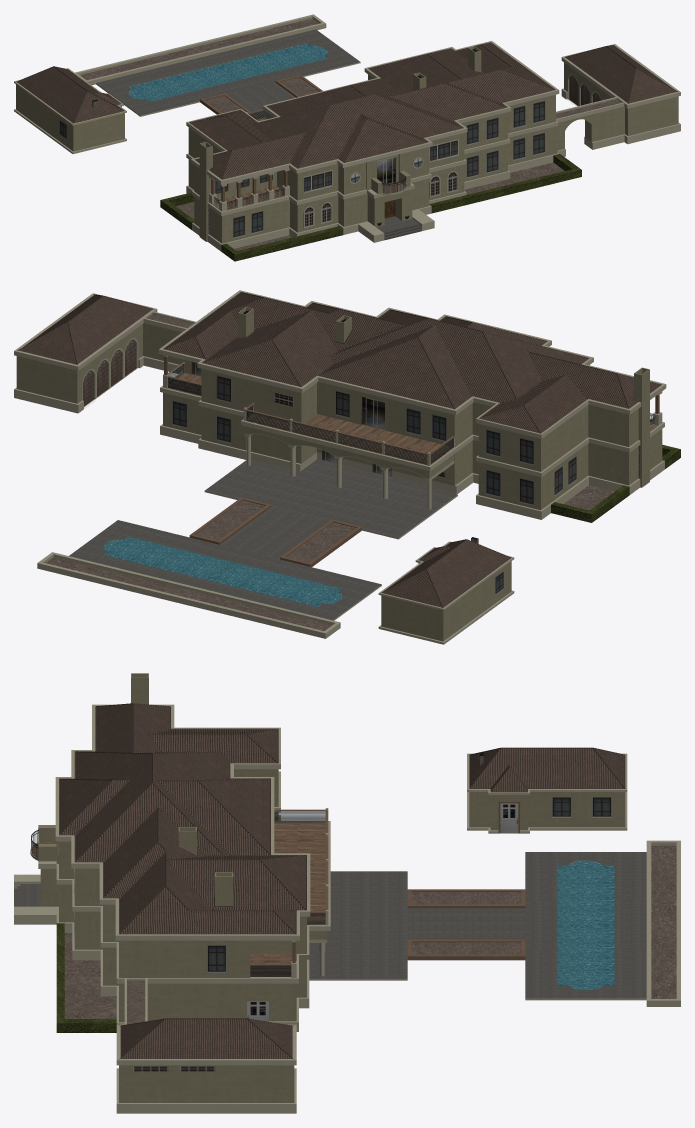
File: mansion_1.glb
The picture shows the model from 3 angles, top to bottom: view 1: azimuth 30°, elevation 25°; view 2: azimuth 150°, elevation 25°; view 3: azimuth 270°, elevation 25°; orthographic projection. The views are drawn at different scales.
Parts seen in each view (by area): view 1: mansion1; view 2: mansion1; view 3: mansion1.
Part boxes in pixels (bbox=[...]): mansion1: bbox=[14, 14, 680, 261]; mansion1: bbox=[14, 290, 680, 644]; mansion1: bbox=[14, 673, 680, 1113].
Size of the model in its own units: 5653 by 1134 by 4991.
1 material, 1 textured.
